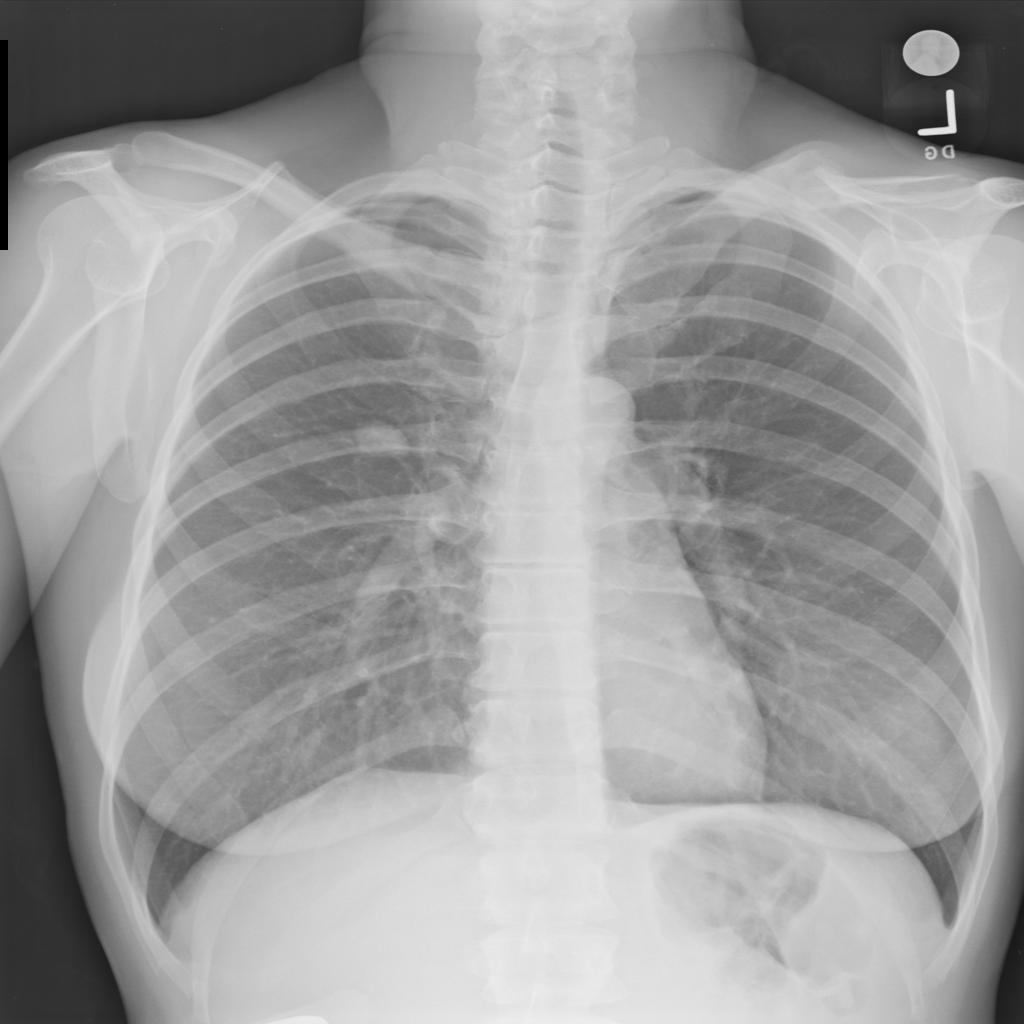nodule: (400, 693, 478, 765), (338, 411, 420, 470)
